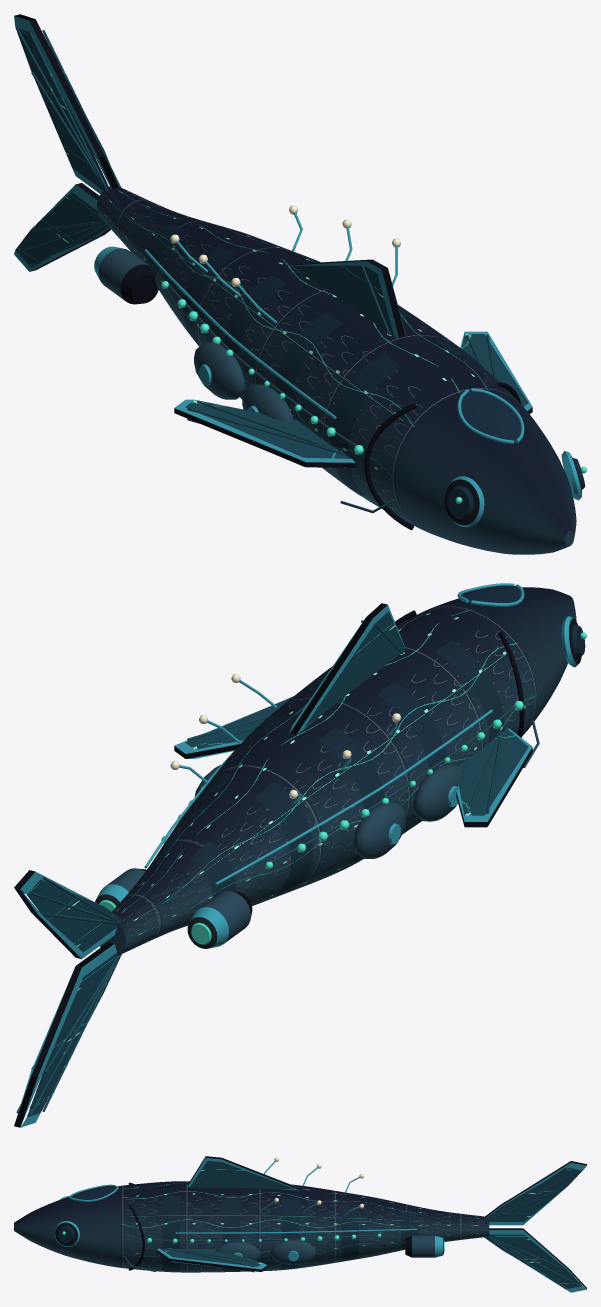
3 renders of one model, top to bottom at view 1: azimuth 30°, elevation 25°; view 2: azimuth 150°, elevation 25°; view 3: azimuth 270°, elevation 25°, orthographic. The views are drawn at different scales.
Parts seen in each view (by area): view 1: pilotfish_hull; view 2: pilotfish_hull; view 3: pilotfish_hull.
Boxes of the visible parts, <box> form: pilotfish_hull: <box>14,14,586,554</box>; pilotfish_hull: <box>14,583,586,1127</box>; pilotfish_hull: <box>14,1156,586,1292</box>.
Size of the model in its own units: 5.24 by 4.16 by 16.
Materials: 1 (1 with a texture image).
